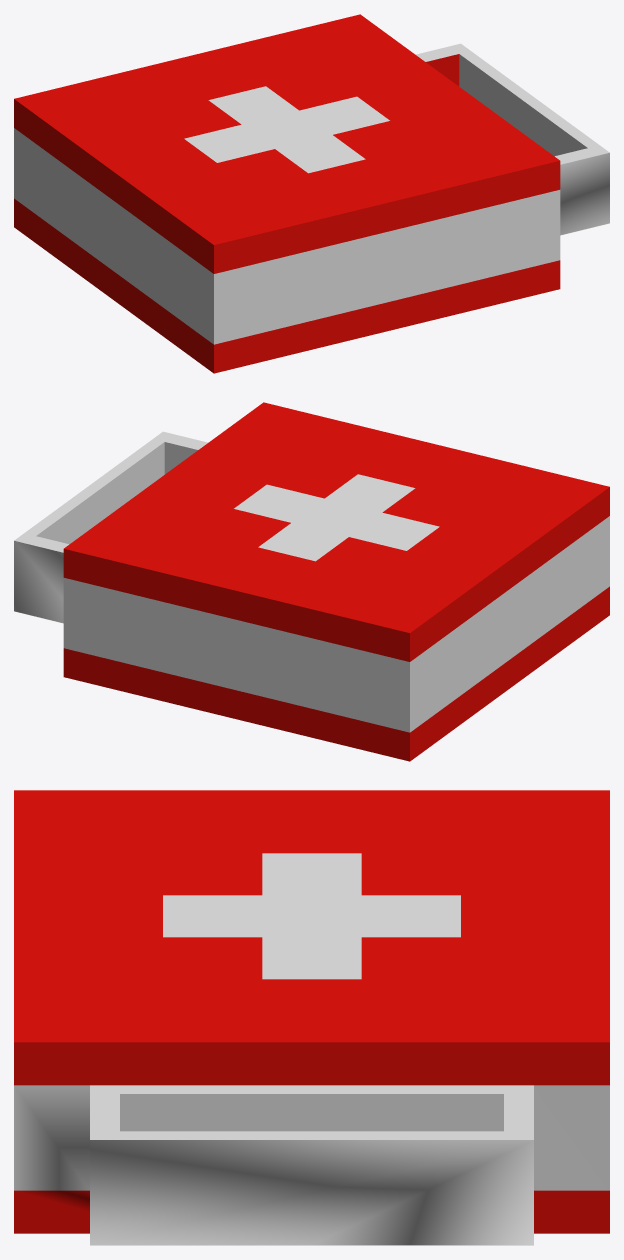
File: healthkit.fbx
3 renders of one model, top to bottom at view 1: azimuth 30°, elevation 25°; view 2: azimuth 150°, elevation 25°; view 3: azimuth 270°, elevation 25°, orthographic. The views are drawn at different scales.
Parts seen in each view (by area): view 1: Cube; view 2: Cube; view 3: Cube.
Boxes of the visible parts, x1,y1,x2,y2 form: Cube: (14, 14, 609, 373); Cube: (14, 402, 609, 761); Cube: (14, 790, 609, 1245).
Bounding box in the file's own units: 243 × 70.86 × 200.
